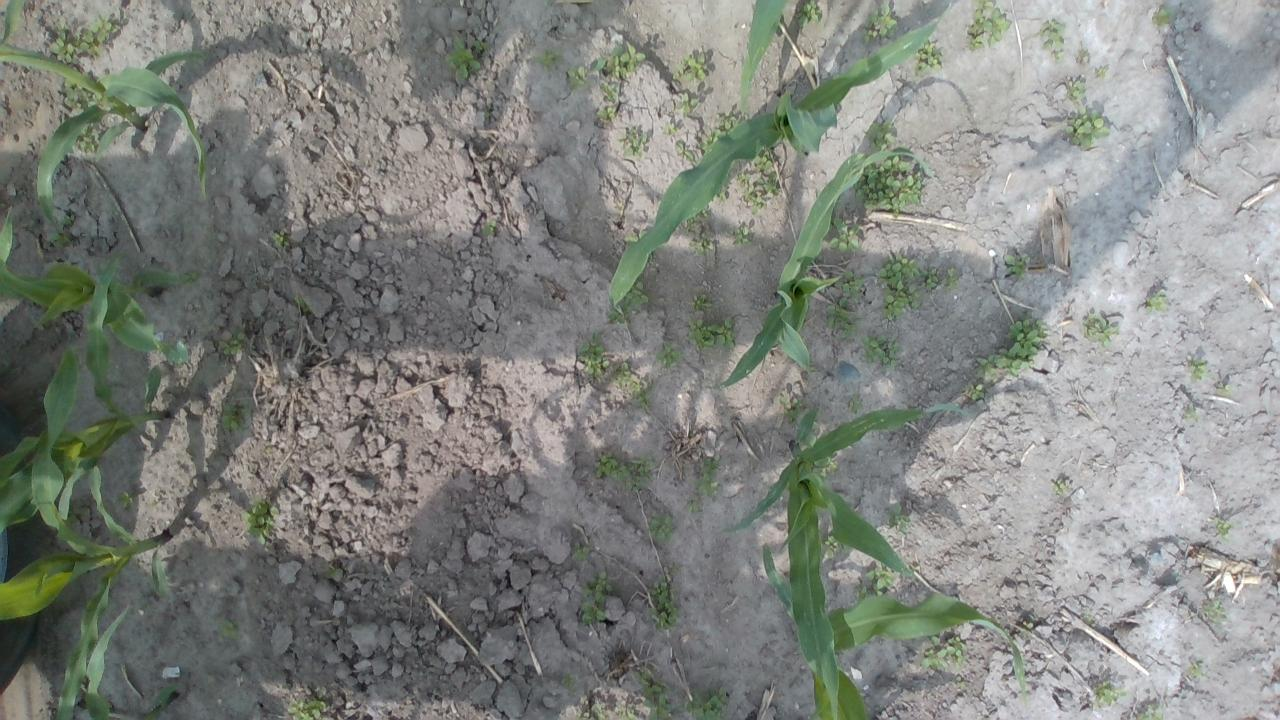Maize: (611, 21, 932, 304), (718, 397, 966, 720), (0, 344, 170, 720), (716, 146, 934, 394), (0, 256, 173, 530), (760, 542, 1026, 720), (0, 44, 207, 222), (0, 210, 196, 368), (86, 604, 185, 720), (734, 0, 790, 120), (0, 0, 26, 45)
Weeds: (974, 318, 1046, 377), (854, 156, 924, 215), (735, 150, 781, 214), (877, 255, 922, 320), (593, 452, 657, 490), (608, 279, 656, 325), (610, 361, 655, 410), (646, 574, 684, 632), (238, 494, 280, 546), (967, 0, 1012, 48), (592, 42, 648, 79), (444, 35, 490, 80), (1063, 106, 1110, 150), (630, 670, 671, 720), (578, 570, 614, 626), (921, 634, 968, 674), (78, 14, 120, 56), (576, 328, 610, 379), (686, 316, 736, 350), (61, 76, 102, 117), (681, 685, 729, 720), (825, 299, 862, 338), (862, 336, 904, 370), (1083, 312, 1121, 348), (286, 688, 328, 720), (829, 216, 864, 254), (854, 567, 896, 597), (46, 22, 76, 62), (221, 397, 254, 433), (671, 50, 710, 80), (1039, 19, 1066, 62), (864, 6, 896, 42), (914, 41, 944, 75), (618, 126, 648, 159), (866, 120, 898, 150), (836, 270, 865, 303), (210, 614, 242, 643), (646, 510, 674, 543), (653, 340, 686, 368), (70, 126, 102, 154), (696, 458, 718, 498), (1092, 680, 1120, 709), (778, 397, 808, 424), (793, 0, 821, 28), (889, 502, 912, 536), (822, 534, 852, 560), (218, 329, 248, 355), (566, 63, 593, 90), (1002, 254, 1030, 280), (45, 225, 76, 248), (688, 232, 716, 255), (1214, 517, 1239, 542), (676, 93, 700, 119), (1190, 358, 1212, 384), (1204, 600, 1227, 624), (1146, 290, 1169, 314), (689, 294, 718, 312), (533, 47, 562, 65), (575, 703, 605, 720), (701, 128, 722, 152), (1135, 705, 1167, 720), (294, 294, 318, 314), (961, 382, 986, 401), (620, 226, 646, 244), (1150, 8, 1174, 27), (820, 457, 841, 478), (1066, 80, 1086, 102), (715, 110, 737, 130), (600, 80, 620, 102), (942, 266, 960, 289), (270, 228, 290, 248), (116, 490, 137, 509), (1188, 661, 1207, 680), (1050, 478, 1068, 498), (676, 143, 696, 161), (921, 268, 939, 288), (735, 228, 754, 246), (615, 704, 636, 720), (594, 106, 618, 120), (686, 495, 704, 513), (848, 398, 864, 418), (676, 216, 696, 232), (481, 218, 496, 238), (559, 671, 575, 689), (1182, 408, 1200, 423), (574, 544, 590, 560), (183, 271, 199, 286), (1216, 384, 1232, 398), (664, 122, 680, 136), (60, 214, 76, 226), (1082, 610, 1094, 624), (696, 208, 712, 218), (327, 566, 339, 578), (1022, 621, 1034, 632), (719, 188, 730, 200), (1096, 68, 1106, 80), (958, 680, 969, 690), (898, 600, 909, 608)
